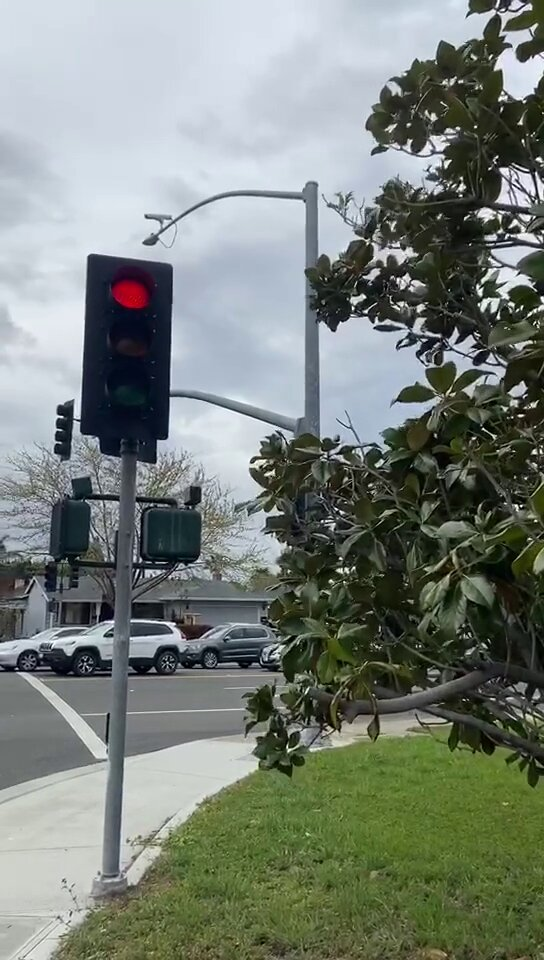red_light: (94, 264, 165, 436)
